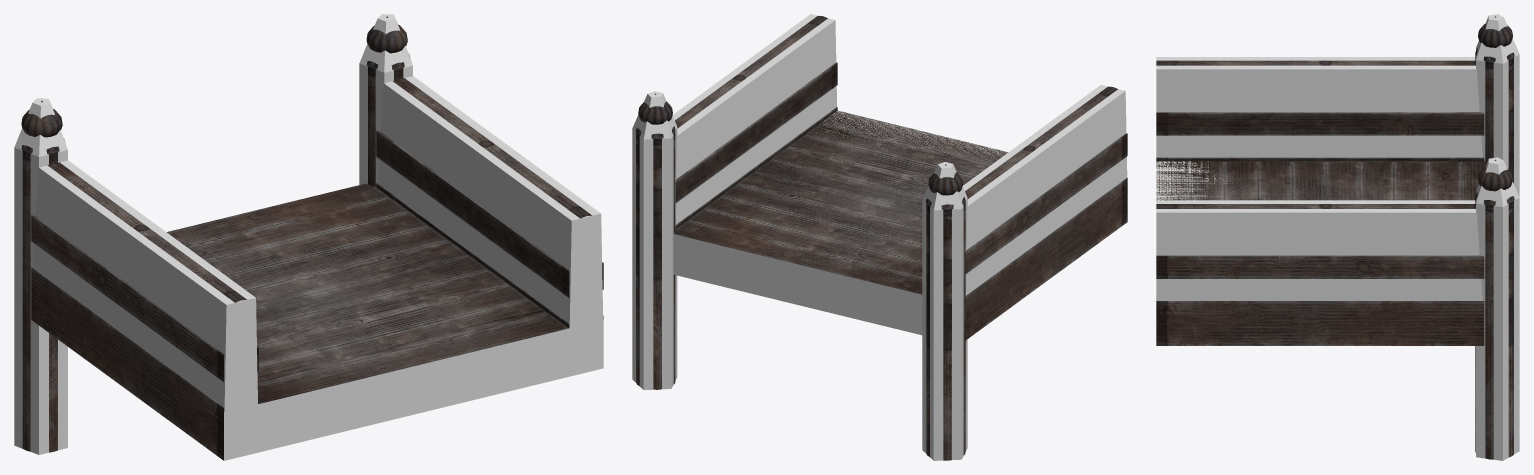
File: JD_Bridge_A_2x2_01.fbx
The picture shows the model from 3 angles, left to right: view 1: azimuth 30°, elevation 25°; view 2: azimuth 150°, elevation 25°; view 3: azimuth 270°, elevation 25°; orthographic projection. The views are drawn at different scales.
Visible parts, largest first — view 1: JD_Bridge_A_2x2_01, C_JD_Bridge_A_2x2_01; view 2: JD_Bridge_A_2x2_01, C_JD_Bridge_A_2x2_01; view 3: C_JD_Bridge_A_2x2_01, JD_Bridge_A_2x2_01.
Part boxes in pixels (x1,y1,x2,y2): JD_Bridge_A_2x2_01: (21, 16, 603, 460); C_JD_Bridge_A_2x2_01: (14, 14, 603, 460); JD_Bridge_A_2x2_01: (636, 15, 1127, 460); C_JD_Bridge_A_2x2_01: (632, 14, 1127, 460); C_JD_Bridge_A_2x2_01: (1156, 14, 1519, 460); JD_Bridge_A_2x2_01: (1156, 16, 1514, 459).
Bounding box in the file's own units: 4.54 × 3.8 × 4.29.
